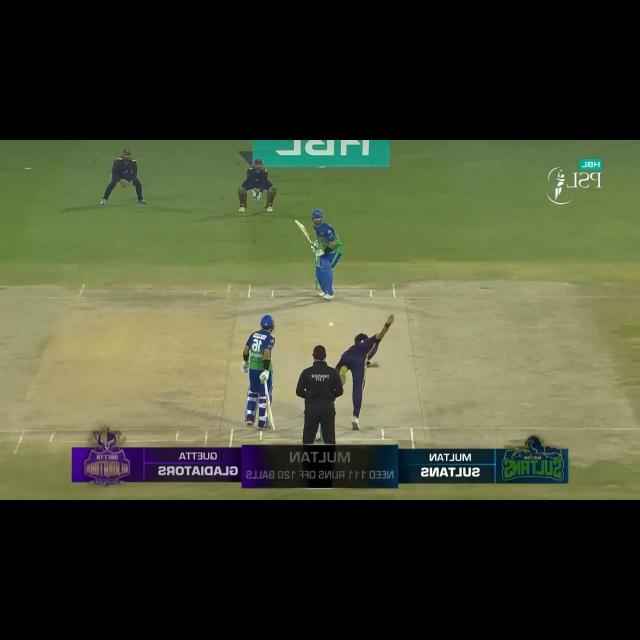bat: (294, 218, 313, 244), (264, 397, 276, 432)
toe: (268, 422, 276, 432), (294, 218, 302, 227)
